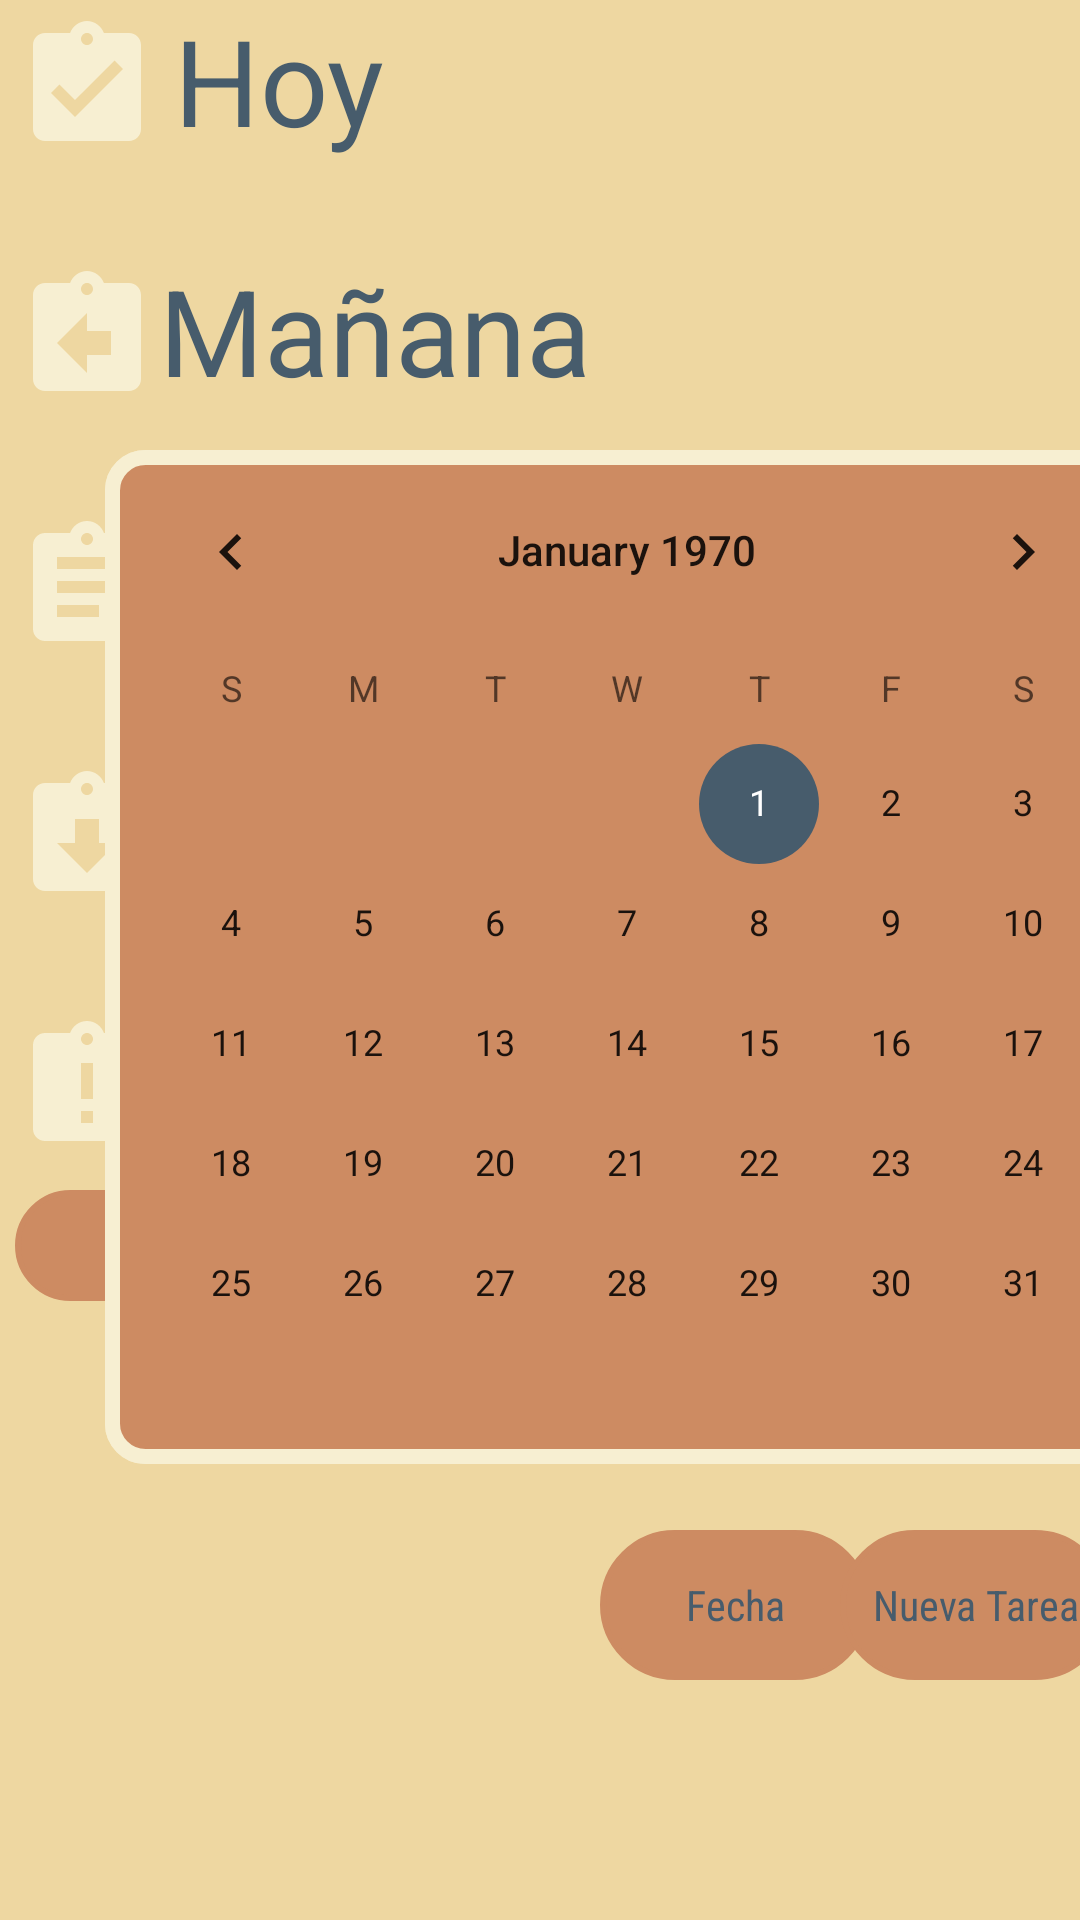

Icon bounding boxes for this 1080 x 1920 phone screenshot, format (x1, y1, x2, y2):
task completed: (33, 21, 141, 141)
task tomorrow: (33, 271, 141, 391)
